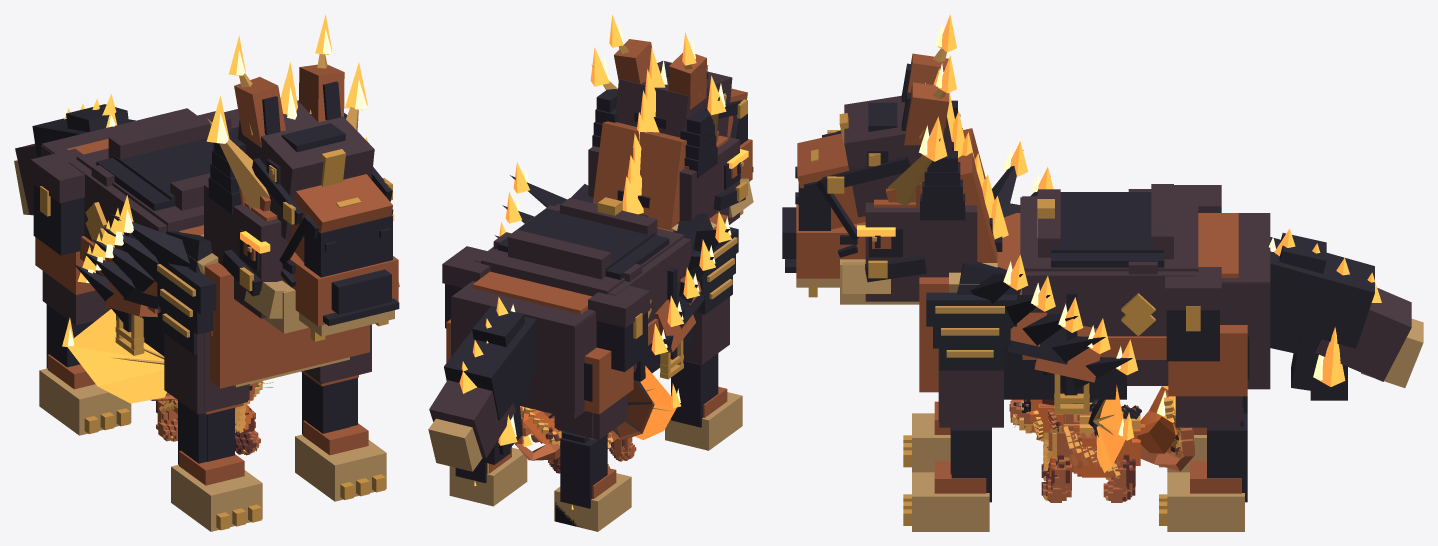
Rendered from store-collection.glb.
3 renders of one model, left to right at view 1: azimuth 30°, elevation 25°; view 2: azimuth 150°, elevation 25°; view 3: azimuth 270°, elevation 25°, orthographic. The views are drawn at different scales.
Parts seen in each view (by area): view 1: store-embermane-body-mesh, store-embermane-head-mesh, store-cinderfang-head-mesh, store-cinderfang-front-left-knee-mesh, store-cinderfang-body-mesh, store-cinderfang-front-right-knee-mesh, store-cinderfang-rear-left-knee-mesh, ashwing-flame-web-left, cinderfang-ruff--1-0, store-cinderfang-rear-left-mesh, embermane-armor--1-0, store-cinderfang-front-left-mesh (+16 smaller); view 2: store-embermane-body-mesh, store-cinderfang-body-mesh, store-embermane-head-mesh, store-cinderfang-tail-mesh, store-cinderfang-head-mesh, store-cinderfang-rear-left-knee-mesh, store-cinderfang-front-left-knee-mesh, store-cinderfang-rear-left-mesh, store-cinderfang-rear-right-knee-mesh, embermane-crown--1-outer, store-embermane-tail-mesh, cinderfang-ruff-fire--1-0-outer (+13 smaller); view 3: store-embermane-body-mesh, store-cinderfang-body-mesh, store-embermane-head-mesh, store-cinderfang-head-mesh, store-cinderfang-tail-mesh, store-cinderfang-rear-right-knee-mesh, store-cinderfang-front-right-knee-mesh, store-cinderfang-rear-right-mesh, embermane-armor--1-0, cinderfang-ruff--1-0, store-embermane-tail-mesh, store-cinderfang-front-right-mesh (+15 smaller).
Boxes of the visible parts, x1,y1,x2,y2 form: store-embermane-body-mesh: [30, 108, 369, 388]; store-embermane-head-mesh: [234, 64, 393, 277]; store-cinderfang-head-mesh: [204, 113, 399, 341]; store-cinderfang-front-left-knee-mesh: [171, 400, 262, 531]; store-cinderfang-body-mesh: [30, 129, 349, 387]; store-cinderfang-front-right-knee-mesh: [295, 372, 386, 501]; store-cinderfang-rear-left-knee-mesh: [39, 304, 131, 435]; ashwing-flame-web-left: [62, 309, 166, 403]; cinderfang-ruff--1-0: [74, 214, 189, 323]; store-cinderfang-rear-left-mesh: [35, 237, 110, 325]; embermane-armor--1-0: [154, 257, 216, 354]; store-cinderfang-front-left-mesh: [164, 333, 247, 414]; store-embermane-body-mesh: [442, 197, 728, 418]; store-cinderfang-body-mesh: [442, 184, 716, 412]; store-embermane-head-mesh: [593, 39, 747, 230]; store-cinderfang-tail-mesh: [428, 308, 536, 471]; store-cinderfang-head-mesh: [588, 89, 753, 224]; store-cinderfang-rear-left-knee-mesh: [554, 434, 631, 531]; store-cinderfang-front-left-knee-mesh: [665, 353, 742, 450]; store-cinderfang-rear-left-mesh: [557, 347, 633, 439]; store-cinderfang-rear-right-knee-mesh: [449, 446, 527, 506]; embermane-crown--1-outer: [609, 14, 696, 214]; store-embermane-tail-mesh: [472, 306, 529, 464]; cinderfang-ruff-fire--1-0-outer: [499, 162, 731, 355]; store-embermane-body-mesh: [919, 184, 1270, 403]; store-cinderfang-body-mesh: [949, 201, 1270, 413]; store-embermane-head-mesh: [795, 53, 1002, 262]; store-cinderfang-head-mesh: [782, 100, 977, 304]; store-cinderfang-tail-mesh: [1270, 237, 1423, 387]; store-cinderfang-rear-right-knee-mesh: [1159, 413, 1247, 531]; store-cinderfang-front-right-knee-mesh: [903, 427, 991, 531]; store-cinderfang-rear-right-mesh: [1168, 325, 1247, 427]; embermane-armor--1-0: [926, 292, 1016, 370]; cinderfang-ruff--1-0: [970, 150, 1132, 395]; store-embermane-tail-mesh: [1270, 233, 1347, 400]; store-cinderfang-front-right-mesh: [939, 370, 1003, 427].
Bounding box in the file's own units: 1.82 × 3.12 × 3.96.
